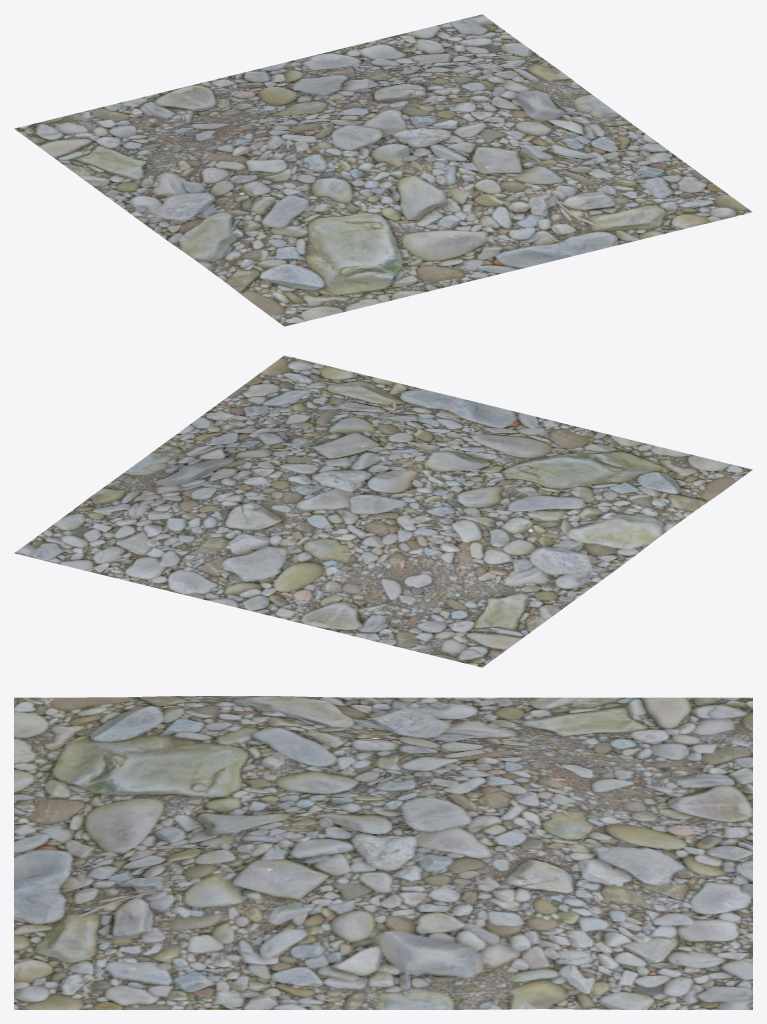
Rendered from sm_Cobble_01_03.fbx.
3 renders of one model, top to bottom at view 1: azimuth 30°, elevation 25°; view 2: azimuth 150°, elevation 25°; view 3: azimuth 270°, elevation 25°, orthographic. The views are drawn at different scales.
Parts seen in each view (by area): view 1: sm_Cobble_01_03_LOD0; view 2: sm_Cobble_01_03_LOD0; view 3: sm_Cobble_01_03_LOD0.
Boxes of the visible parts, x1,y1,x2,y2 form: sm_Cobble_01_03_LOD0: (14,14,752,326); sm_Cobble_01_03_LOD0: (14,355,752,667); sm_Cobble_01_03_LOD0: (14,696,752,1009).
Bounding box in the file's own units: 122 × 122 × 6.89.
